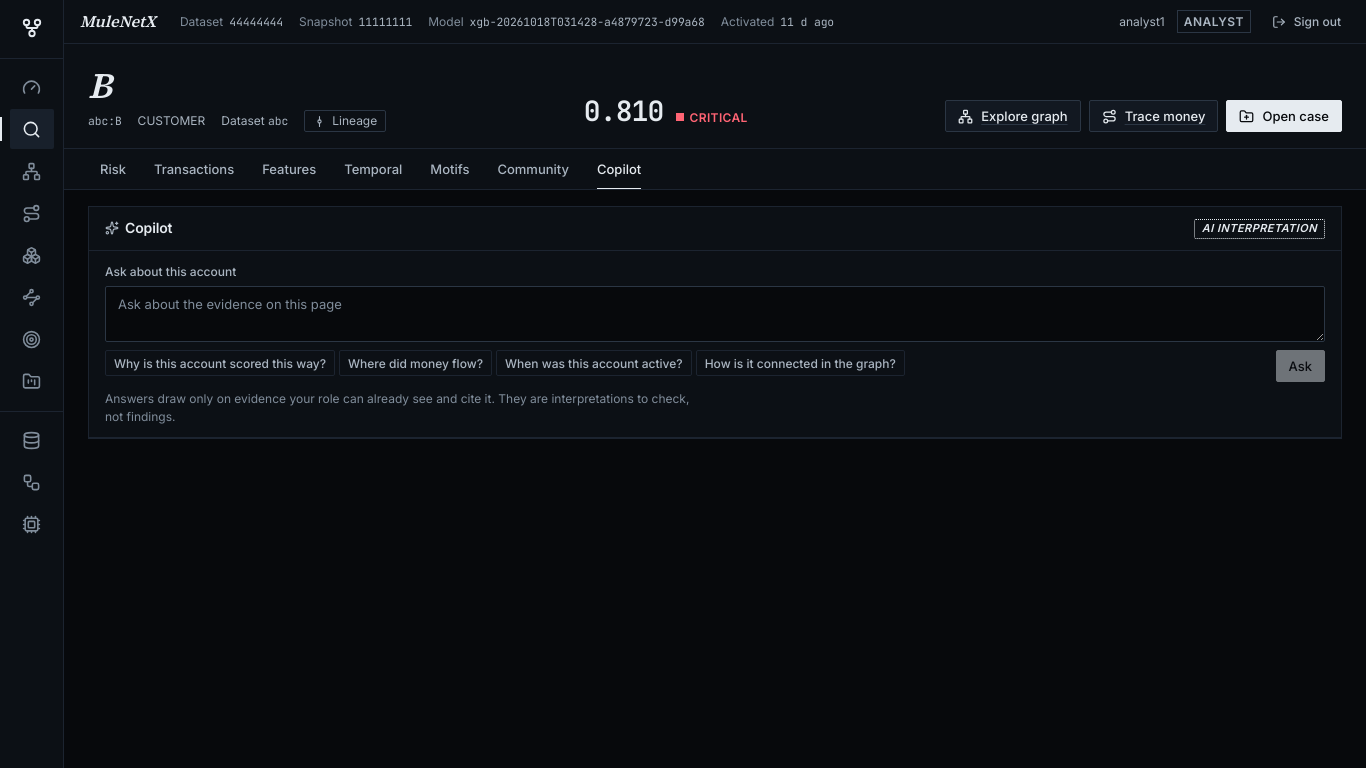
Test: copilot panel (T41) › renders an unsupported question without the AI sections
The image size is (1366, 768).
Type "Write a poem" into the text box.
click(715, 314); type("Write a poem")  # box x1=105 y1=286 x2=1325 y2=342
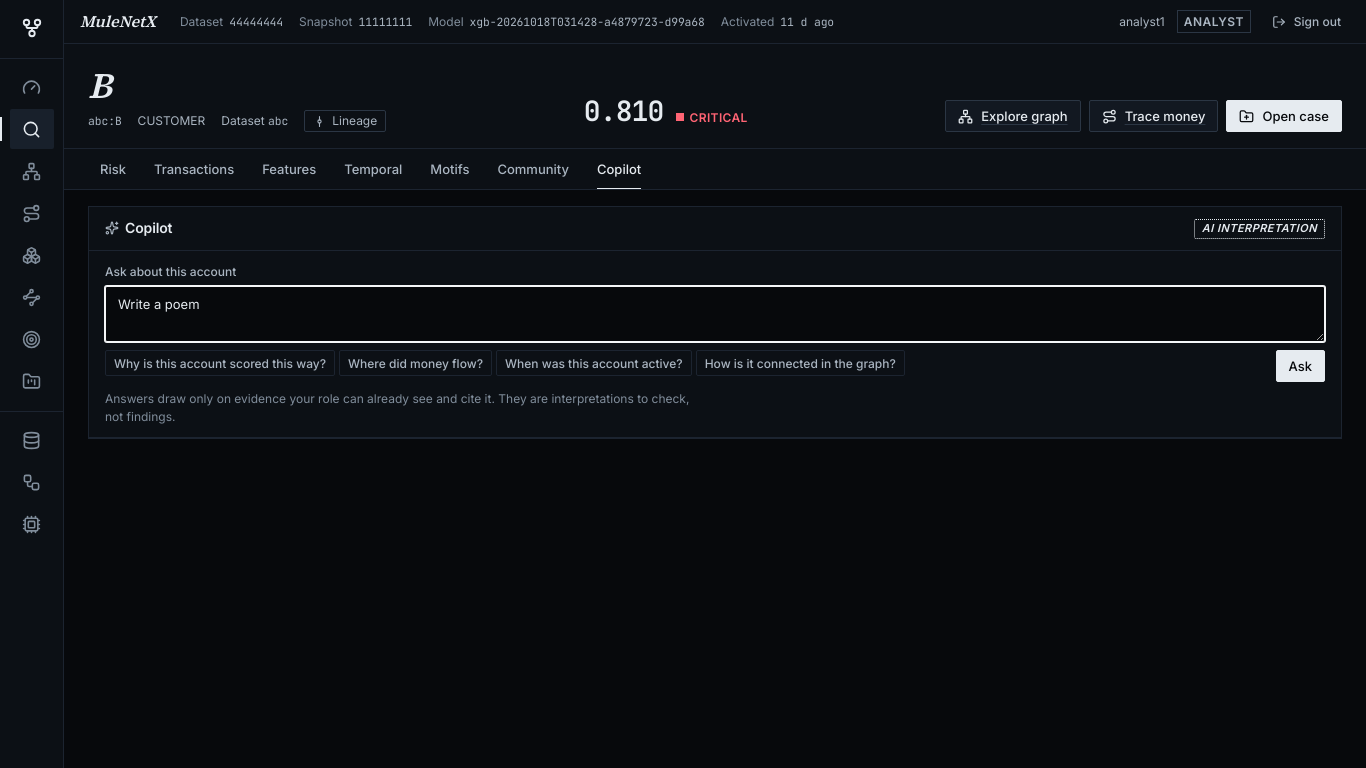
Click the button "Ask".
click(1300, 366)  # box x1=1276 y1=350 x2=1325 y2=382
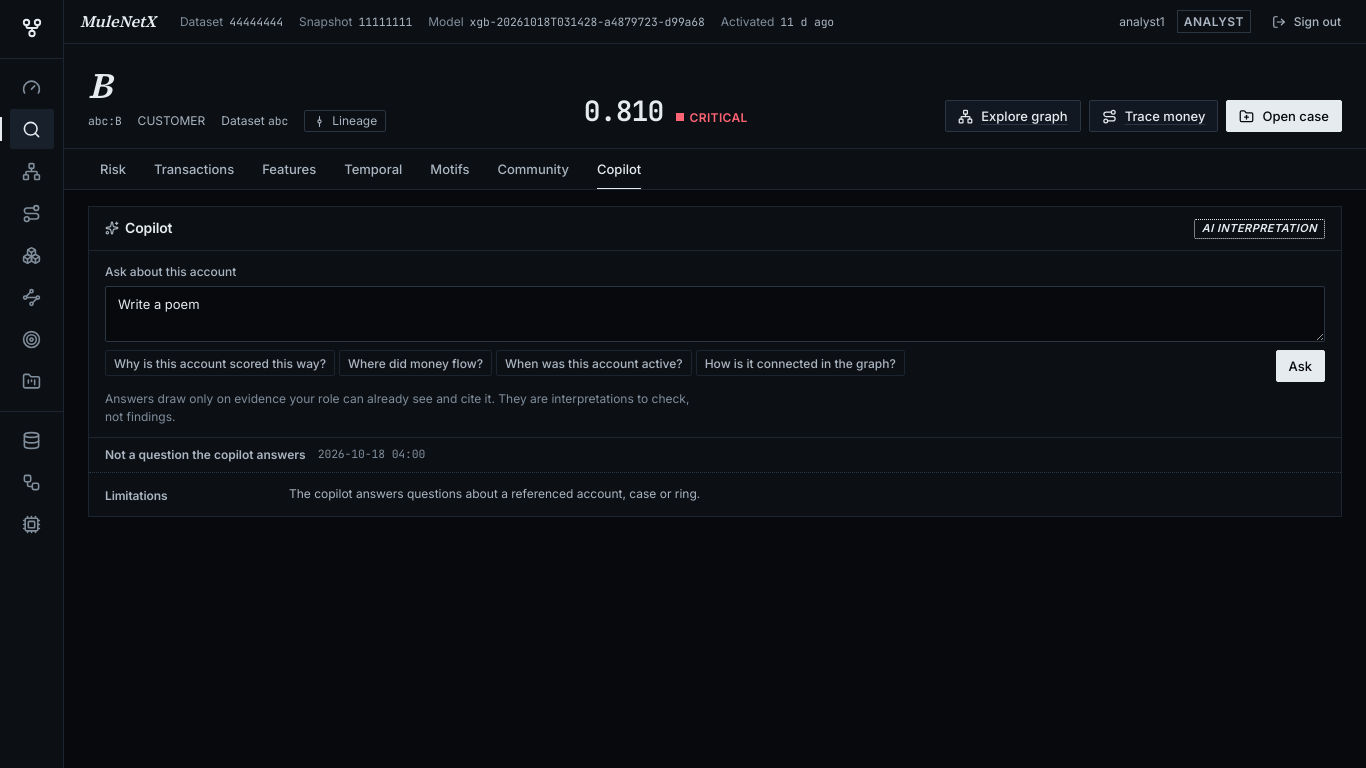
Expected: the text "Not a question the copilot answers" is shown, x1=105 y1=446 x2=306 y2=464
